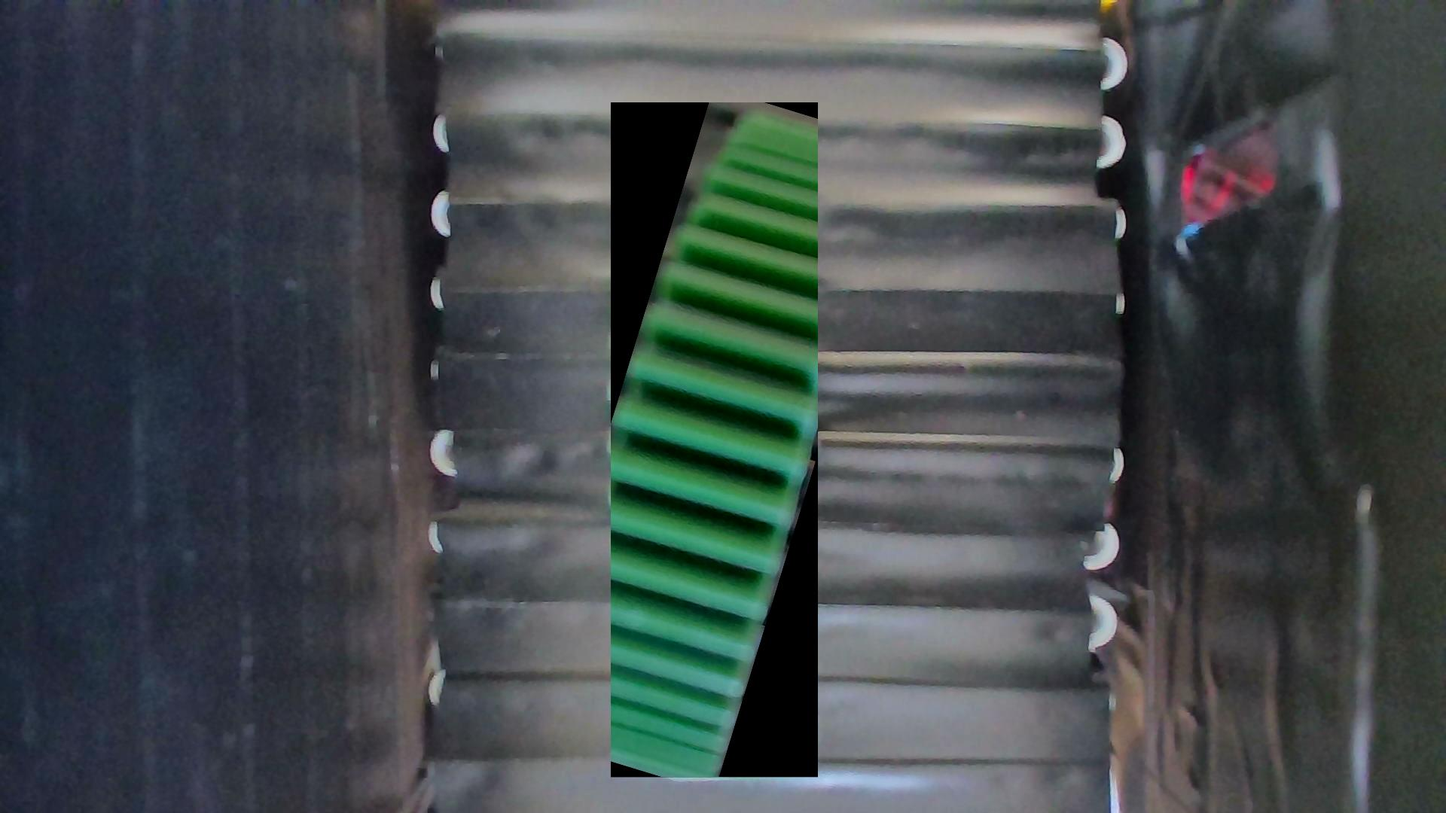gear: (611, 103, 818, 778)
